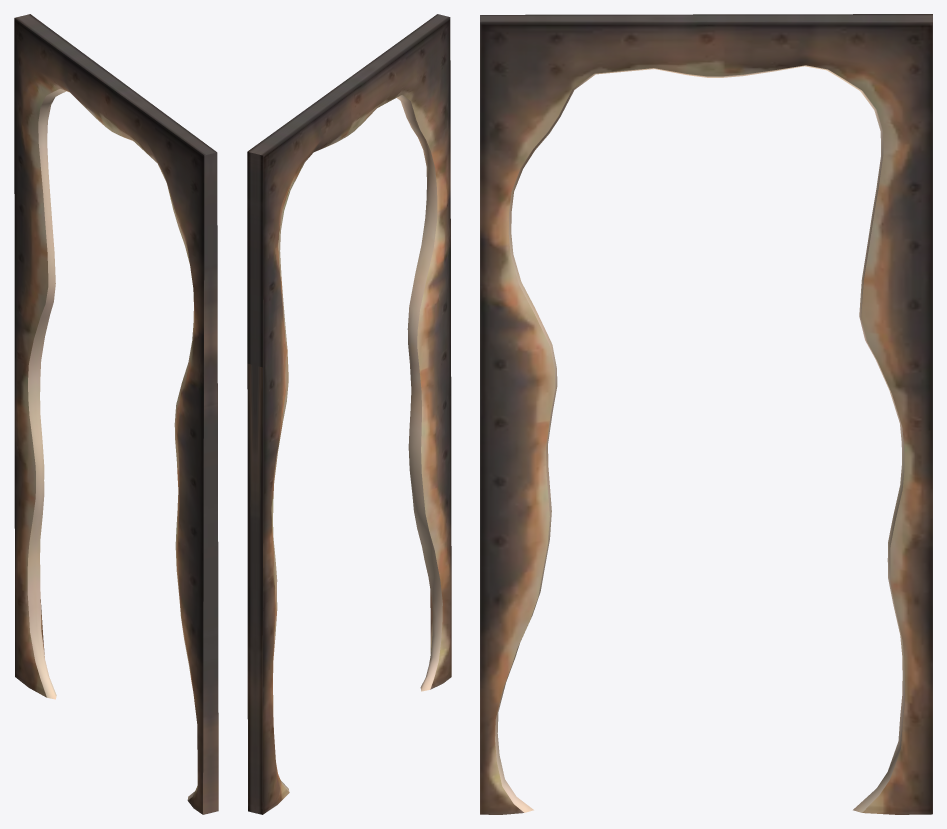
3 views of the same model, side by side, from view 1: azimuth 30°, elevation 25°; view 2: azimuth 150°, elevation 25°; view 3: azimuth 270°, elevation 25° (orthographic). The views are drawn at different scales.
Visible parts, largest first — view 1: body0_model0_lod0_mesh0; view 2: body0_model0_lod0_mesh0; view 3: body0_model0_lod0_mesh0.
Part boxes in pixels (left/top/right/bottom): body0_model0_lod0_mesh0: left=14, top=14, right=218, bottom=814; body0_model0_lod0_mesh0: left=247, top=14, right=451, bottom=814; body0_model0_lod0_mesh0: left=480, top=14, right=932, bottom=814.
Size of the model in its own units: 4.46 by 108 by 56.
Materials: 1 (1 with a texture image).
